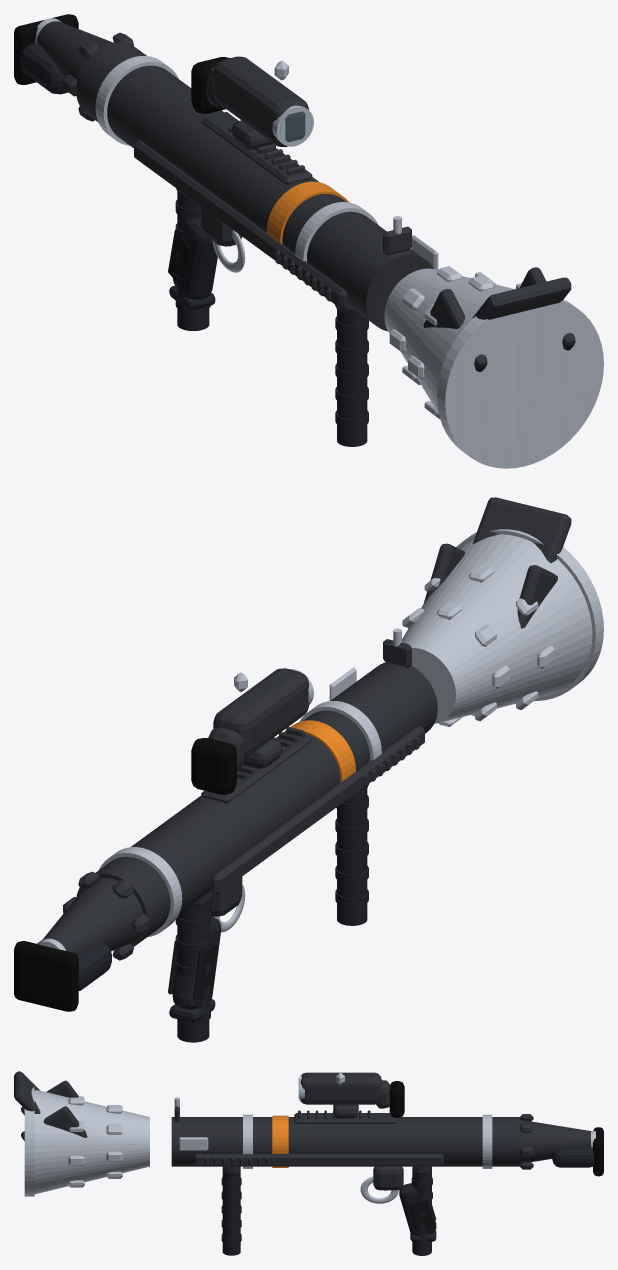
Rendered from wep_tank.glb.
3 renders of one model, top to bottom at view 1: azimuth 30°, elevation 25°; view 2: azimuth 150°, elevation 25°; view 3: azimuth 270°, elevation 25°, orthographic. The views are drawn at different scales.
Visible parts, largest first — view 1: wep_tank_bell_mouth, wep_tank_tube, wep_tank_bell_lip, wep_tank_optic_housing, wep_tank_hand_rail_l, wep_tank_grip_front_sleeve, wep_tank_blast_plate, wep_tank_venturi, wep_tank_pistol_grip, wep_tank_top_rail_base, wep_tank_stripe_band, wep_tank_tube_band_rear (+12 smaller); view 2: wep_tank_bell_mouth, wep_tank_tube, wep_tank_optic_housing, wep_tank_venturi, wep_tank_hand_rail_l, wep_tank_shoulder_face, wep_tank_blast_plate, wep_tank_grip_front_sleeve, wep_tank_bell_lip, wep_tank_optic_eyecup, wep_tank_grip_rear_sleeve, wep_tank_tube_band_rear (+10 smaller); view 3: wep_tank_tube, wep_tank_bell_mouth, wep_tank_hand_rail_r, wep_tank_optic_housing, wep_tank_venturi, wep_tank_grip_front_sleeve, wep_tank_bell_lip, wep_tank_top_rail_base, wep_tank_shoulder_rest, wep_tank_trigger_block, wep_tank_blast_plate, wep_tank_stripe_band (+13 smaller).
Part boxes in pixels (bbox=[...]): wep_tank_bell_mouth: bbox=[384, 268, 603, 468]; wep_tank_tube: bbox=[76, 42, 433, 331]; wep_tank_bell_lip: bbox=[437, 299, 603, 468]; wep_tank_optic_housing: bbox=[213, 56, 308, 146]; wep_tank_hand_rail_l: bbox=[134, 140, 347, 309]; wep_tank_grip_front_sleeve: bbox=[337, 309, 367, 446]; wep_tank_blast_plate: bbox=[472, 277, 571, 319]; wep_tank_venturi: bbox=[37, 21, 113, 79]; wep_tank_pistol_grip: bbox=[173, 217, 217, 299]; wep_tank_top_rail_base: bbox=[201, 111, 312, 185]; wep_tank_stripe_band: bbox=[266, 181, 349, 244]; wep_tank_tube_band_rear: bbox=[95, 56, 178, 145]; wep_tank_bell_mouth: bbox=[402, 534, 592, 723]; wep_tank_tube: bbox=[76, 662, 437, 946]; wep_tank_optic_housing: bbox=[213, 668, 309, 758]; wep_tank_venturi: bbox=[41, 877, 142, 954]; wep_tank_hand_rail_l: bbox=[211, 725, 424, 894]; wep_tank_shoulder_face: bbox=[14, 941, 78, 1011]; wep_tank_blast_plate: bbox=[472, 497, 571, 563]; wep_tank_grip_front_sleeve: bbox=[337, 788, 367, 925]; wep_tank_bell_lip: bbox=[456, 529, 603, 700]; wep_tank_optic_eyecup: bbox=[191, 738, 236, 794]; wep_tank_grip_rear_sleeve: bbox=[177, 902, 209, 1042]; wep_tank_tube_band_rear: bbox=[99, 847, 182, 936]; wep_tank_tube: bbox=[171, 1117, 520, 1166]; wep_tank_bell_mouth: bbox=[34, 1090, 149, 1194]; wep_tank_hand_rail_r: bbox=[193, 1154, 443, 1166]; wep_tank_optic_housing: bbox=[299, 1072, 381, 1104]; wep_tank_venturi: bbox=[520, 1120, 590, 1163]; wep_tank_grip_front_sleeve: bbox=[222, 1167, 240, 1255]; wep_tank_bell_lip: bbox=[24, 1087, 34, 1196]; wep_tank_top_rail_base: bbox=[294, 1113, 397, 1123]; wep_tank_shoulder_rest: bbox=[552, 1147, 594, 1167]; wep_tank_trigger_block: bbox=[373, 1166, 403, 1190]; wep_tank_blast_plate: bbox=[14, 1071, 40, 1113]; wep_tank_stripe_band: bbox=[272, 1115, 288, 1167].
Bounding box in the file's own units: 0.202 × 0.374 × 1.08.
Materials: 7 (7 with a texture image).
